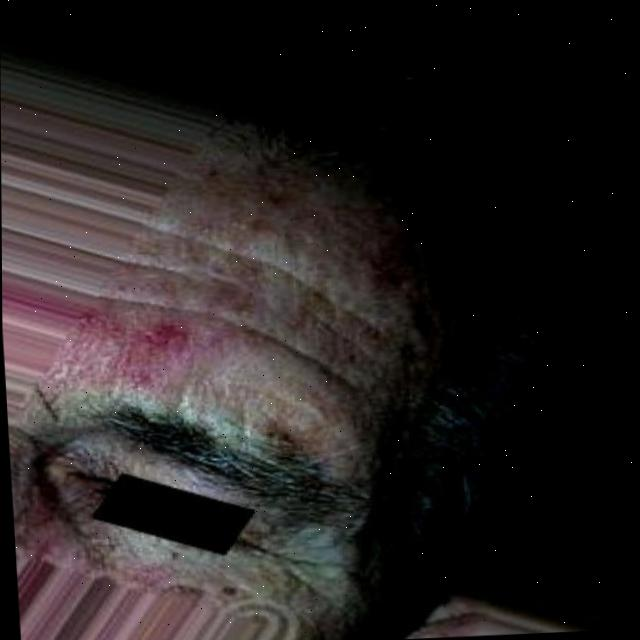Rosacea: (51, 299, 213, 404)
